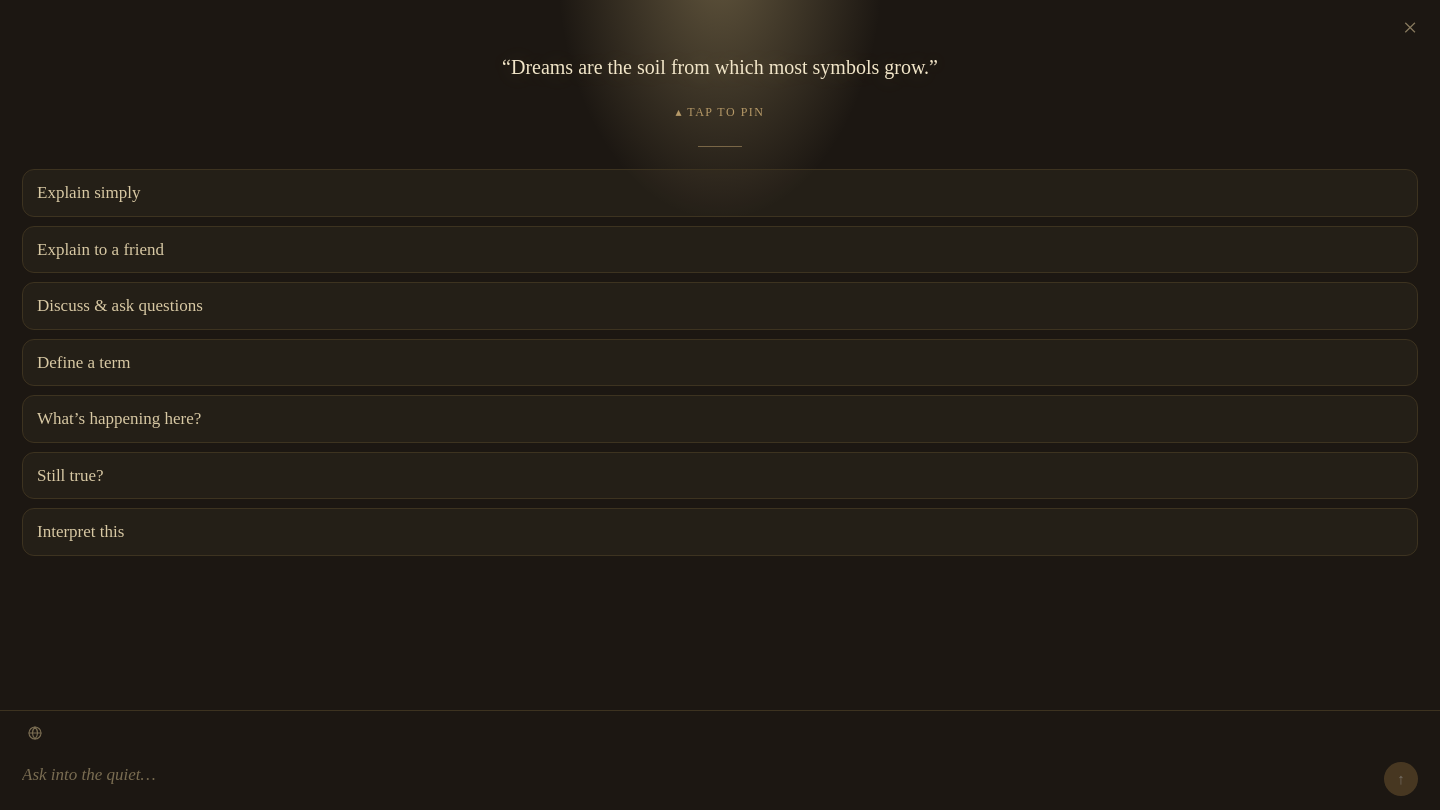
Test case: the question box › clears the box after the question is sent
The image size is (1440, 810).
Type "What does this mean?" into the text box named "Ask about this passage" at [698, 776], box [22,756,1375,796]
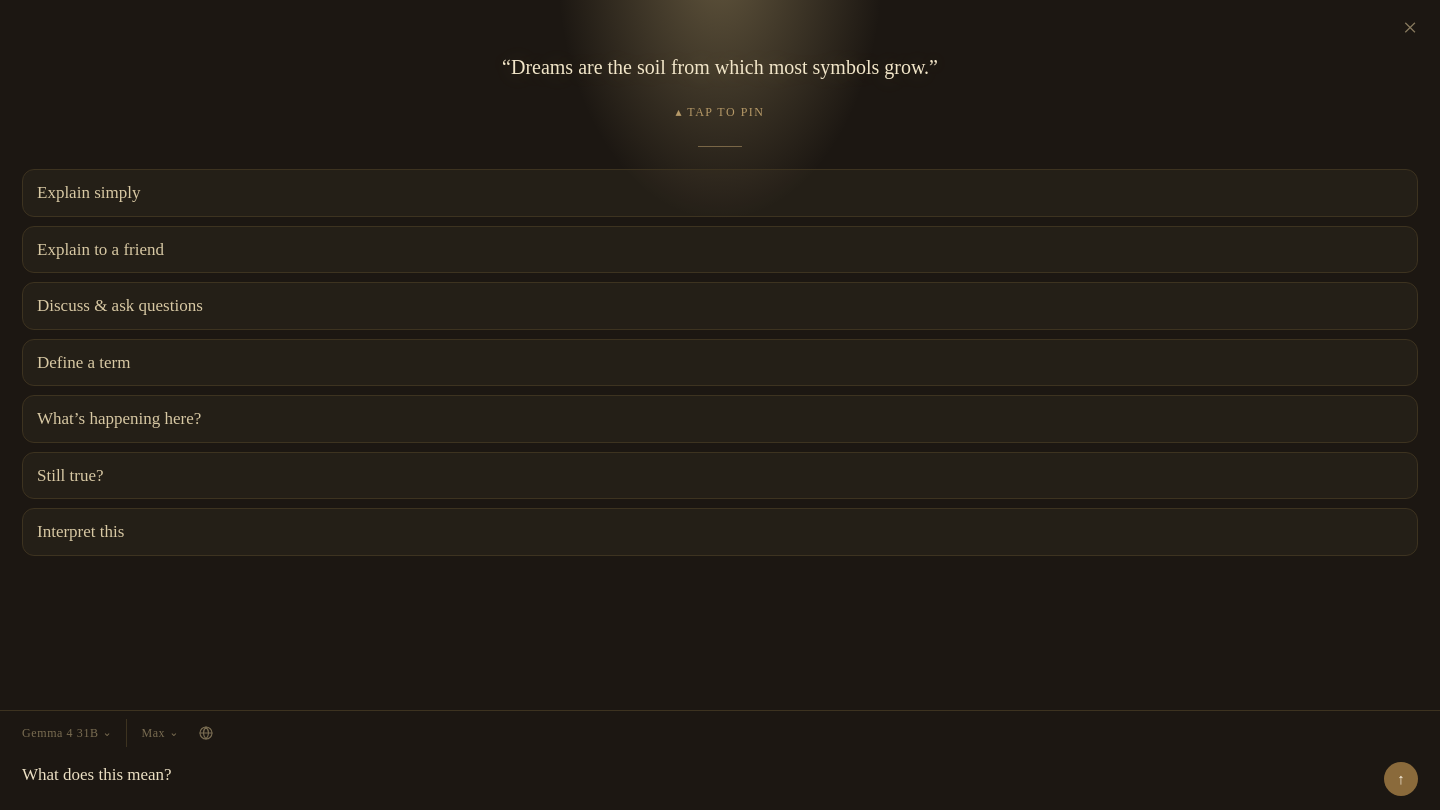
Press Enter in the text box named "Ask about this passage", box [22,756,1375,796]
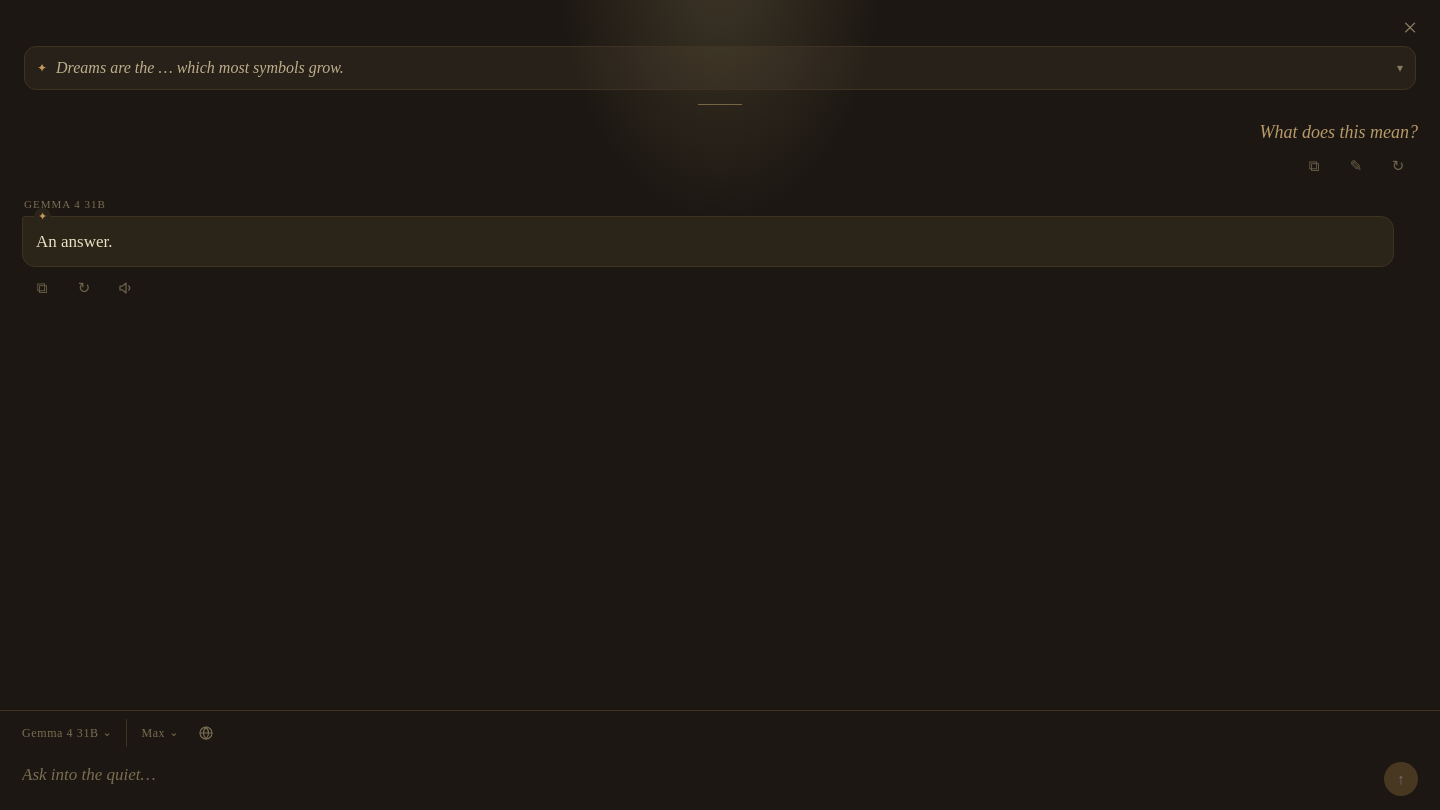
Now the text "An answer." is shown, box [36,232,112,251]
Now the text box named "Ask about this passage" is empty, box [22,756,1375,796]
